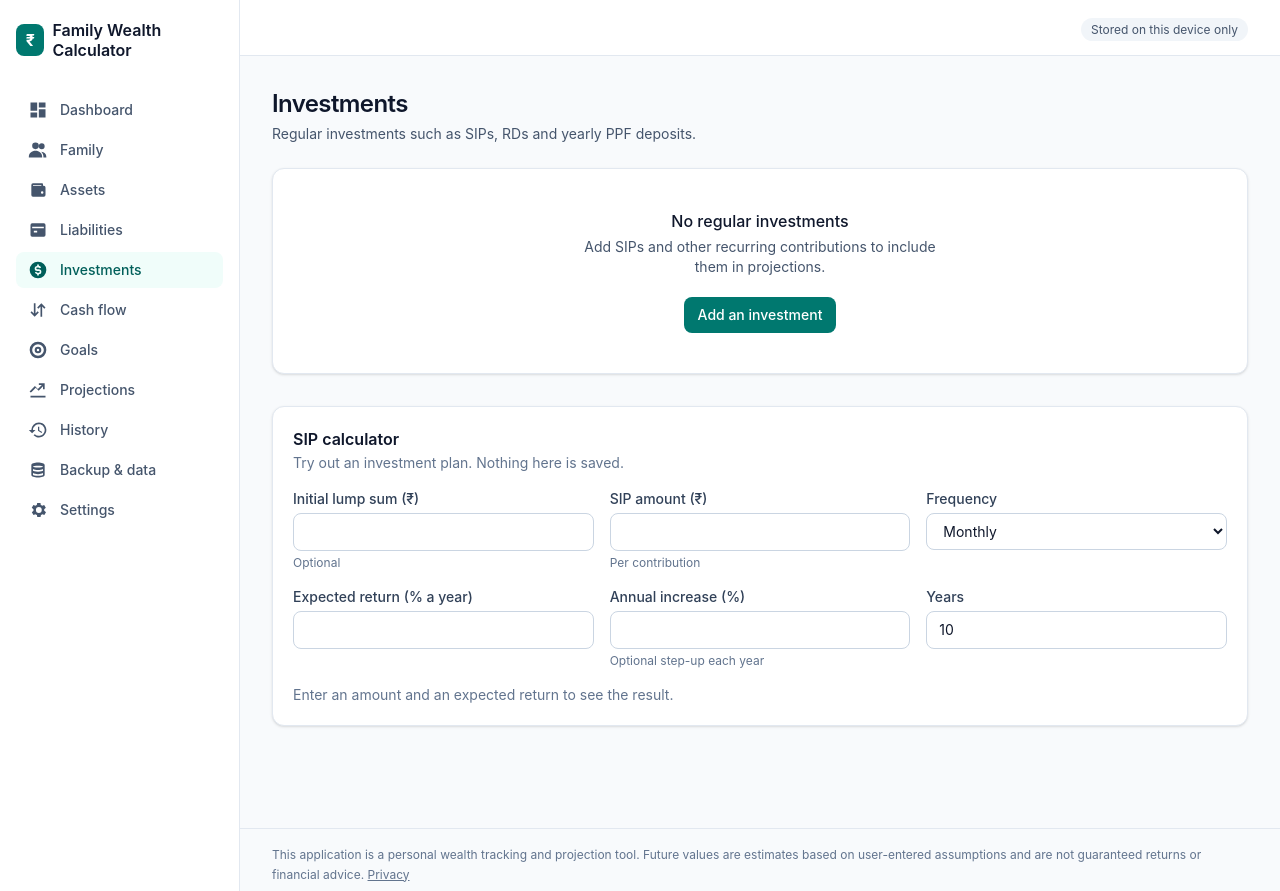
Test: Investments page › SIP calculator: ₹10,000 a month at 12% for 10 years, with step-up and lump sum
Type "10000" into the field labelled "SIP amount (₹)" at (760, 532), box [610, 513, 910, 551]
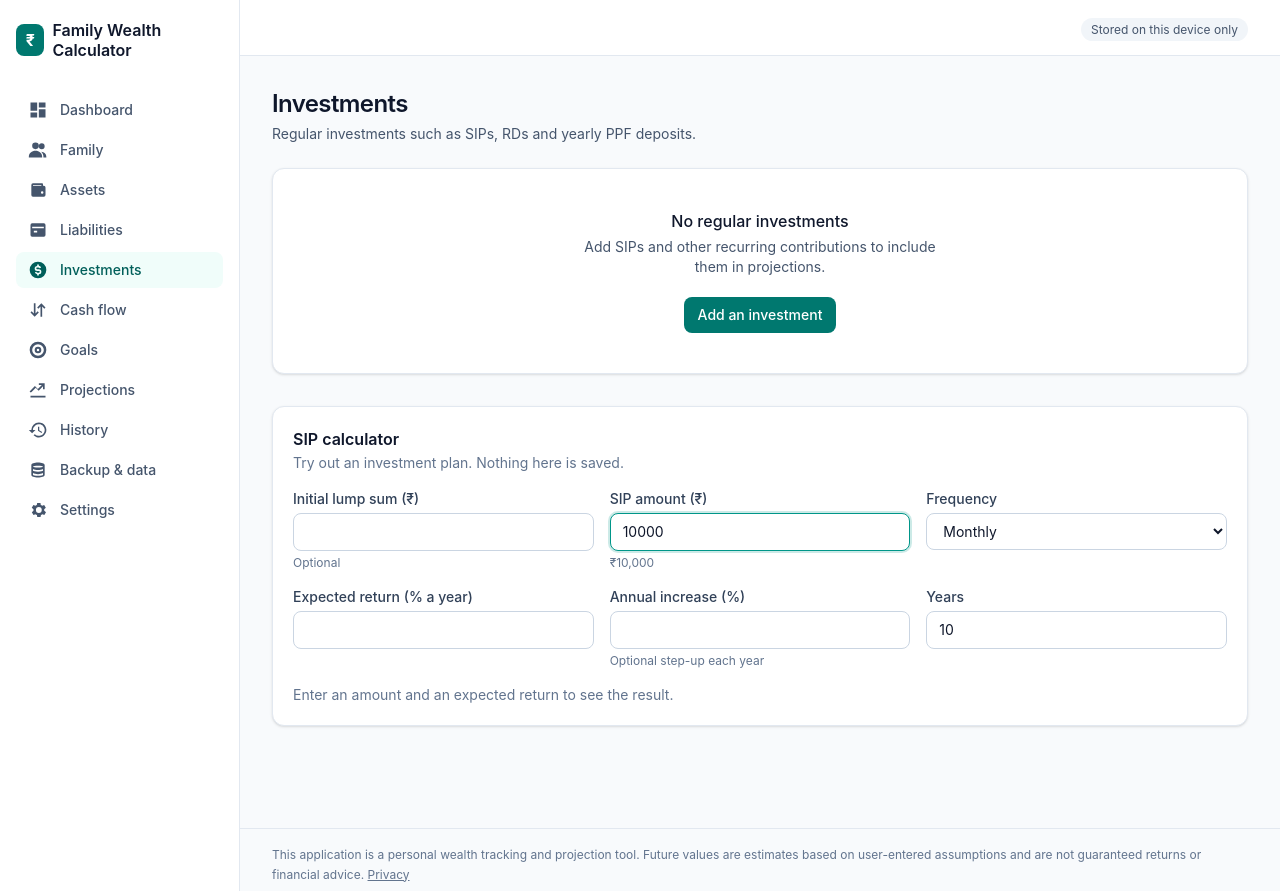
Type "12" into the field labelled "Expected return (% a year)" at (443, 630), box [293, 611, 594, 649]
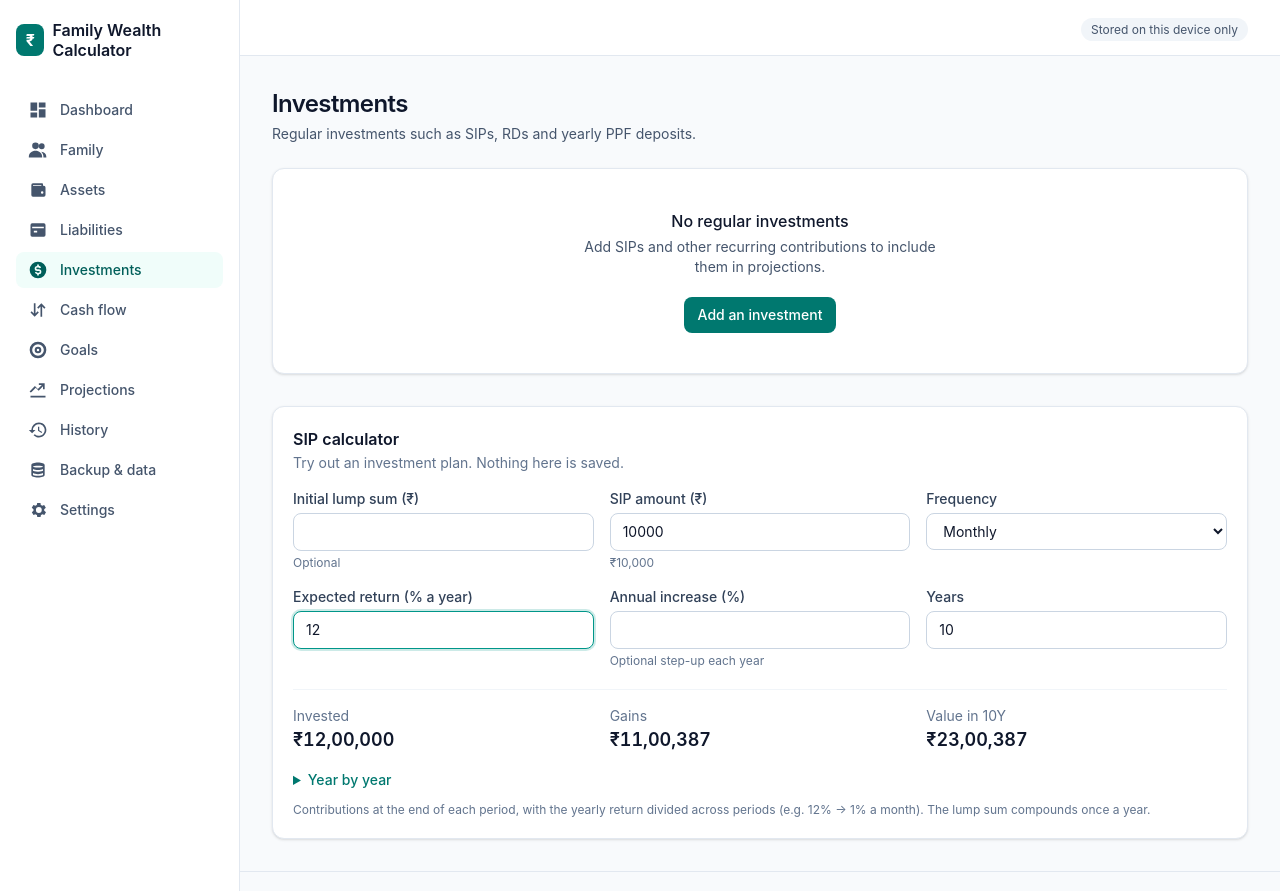
Check: the text with test id "calc-invested" reads "₹12,00,000", box [293, 729, 394, 750]
Check: the text with test id "calc-value" reads "₹23,00,387", box [926, 729, 1028, 750]
Type "10" into the field labelled "Annual increase (%)" at (760, 630), box [610, 611, 910, 649]
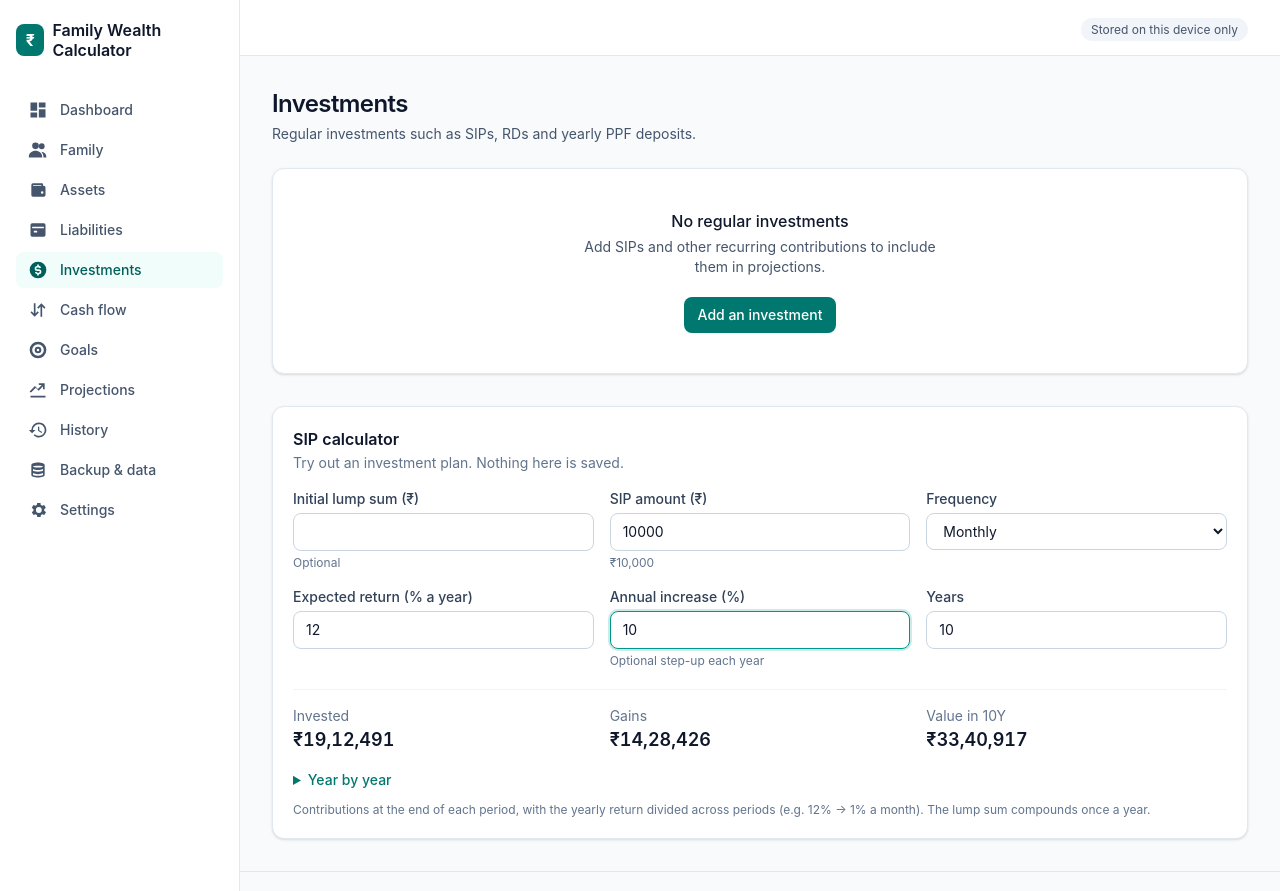
Check: the text with test id "calc-value" reads "₹33,40,917", box [926, 729, 1028, 750]
Clear the field labelled "Annual increase (%)" at (760, 630), box [610, 611, 910, 649]
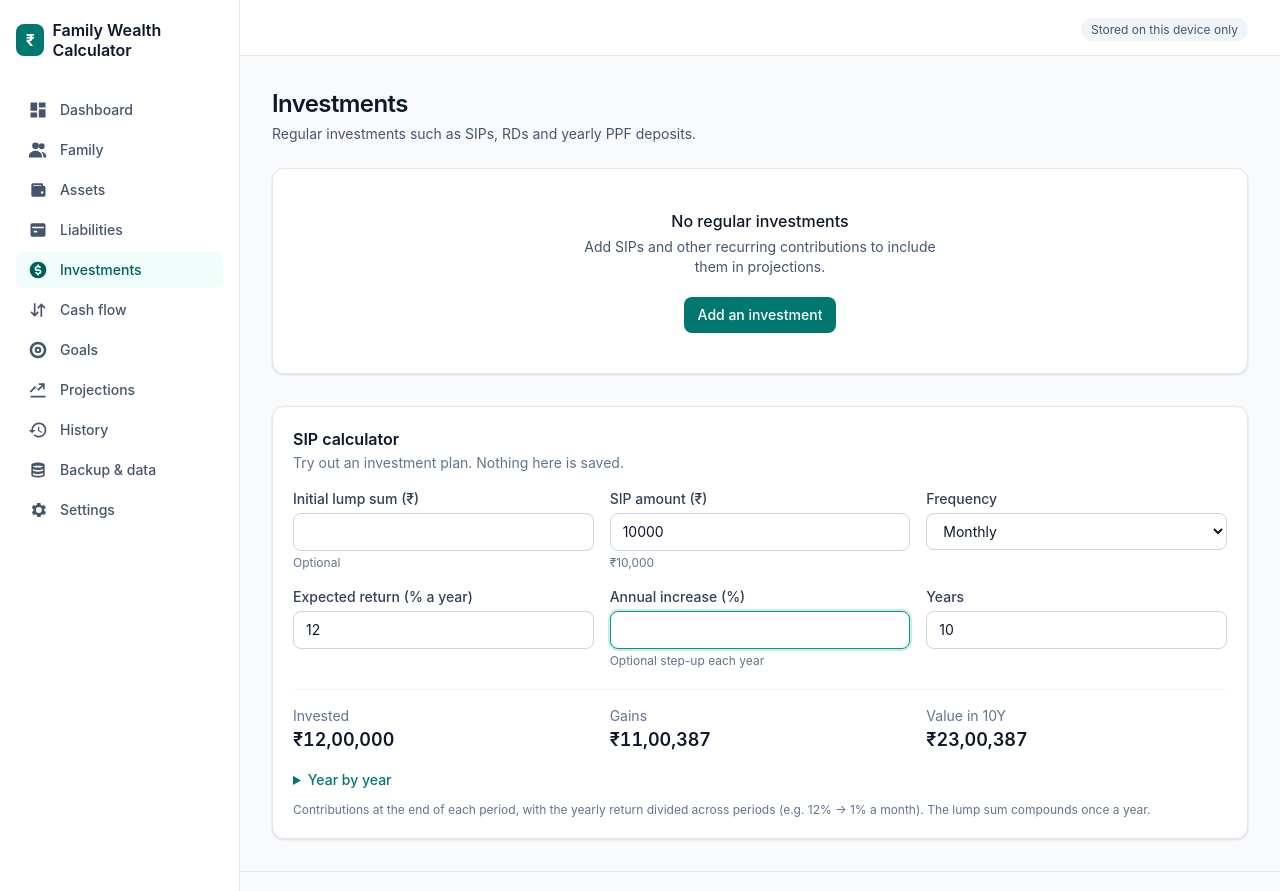
Type "1,00,000" into the field labelled "Initial lump sum (₹)" at (443, 532), box [293, 513, 594, 551]
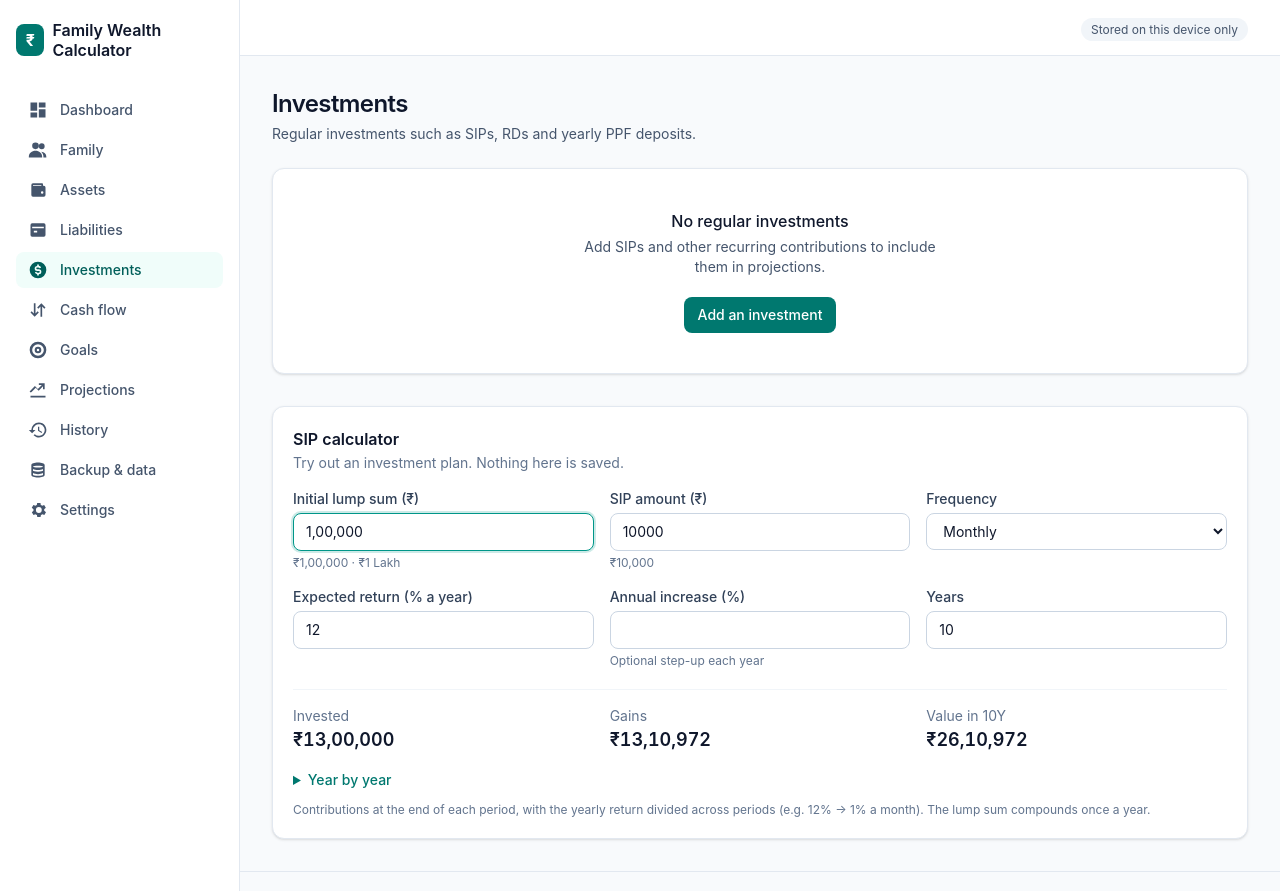
Check: the text with test id "calc-value" reads "₹26,10,972", box [926, 729, 1028, 750]
